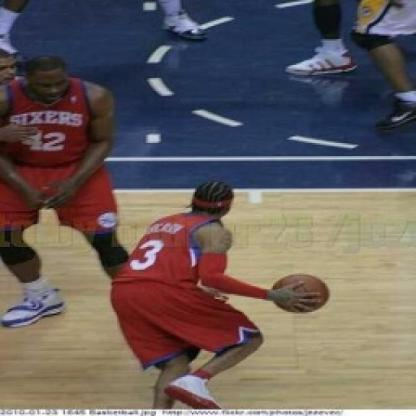basketball: (268, 268, 336, 320)
